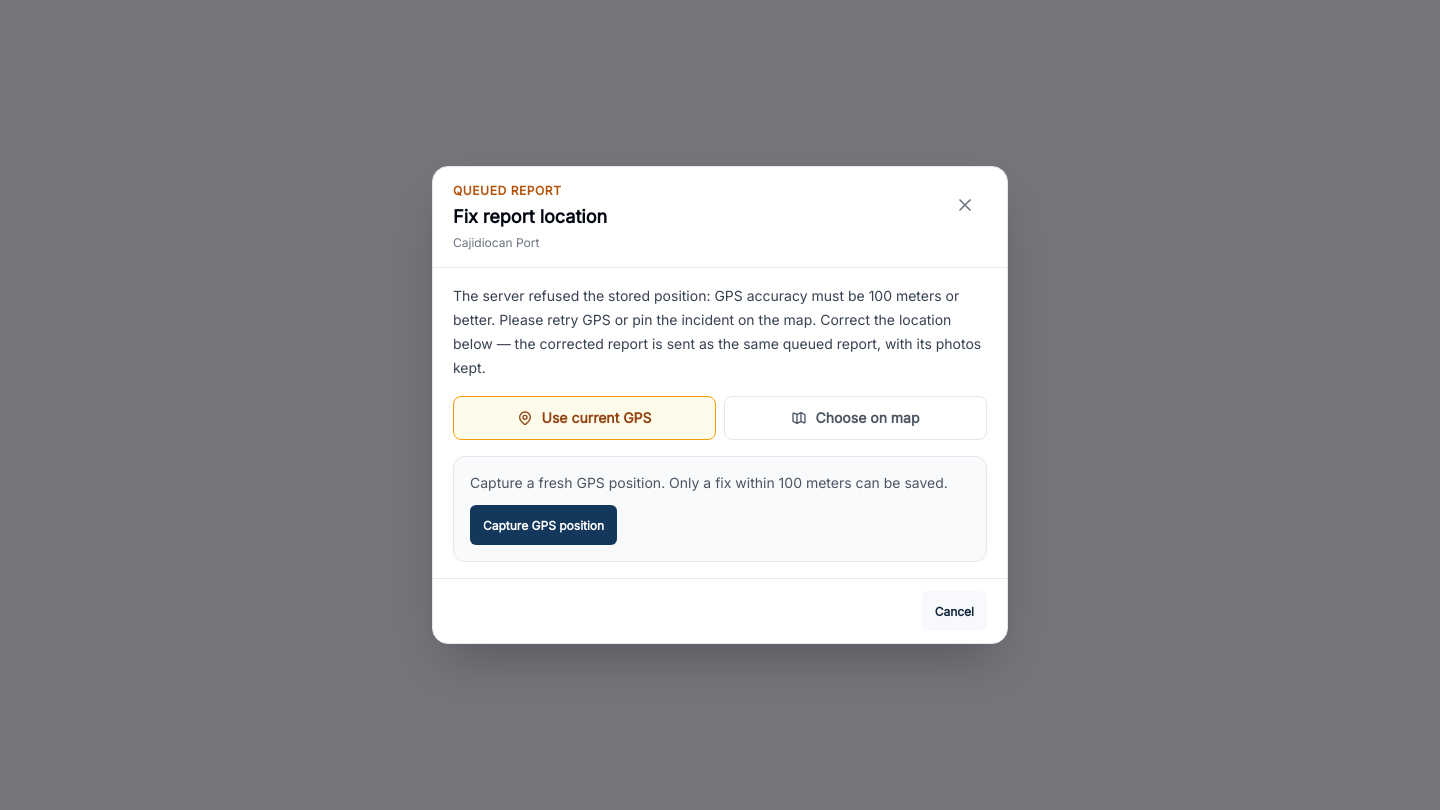
QueuedReportLocationFix › refuses an inaccurate GPS fix and points at the map instead
Click the button "Capture GPS position" at (544, 525), box [470,505,617,545]
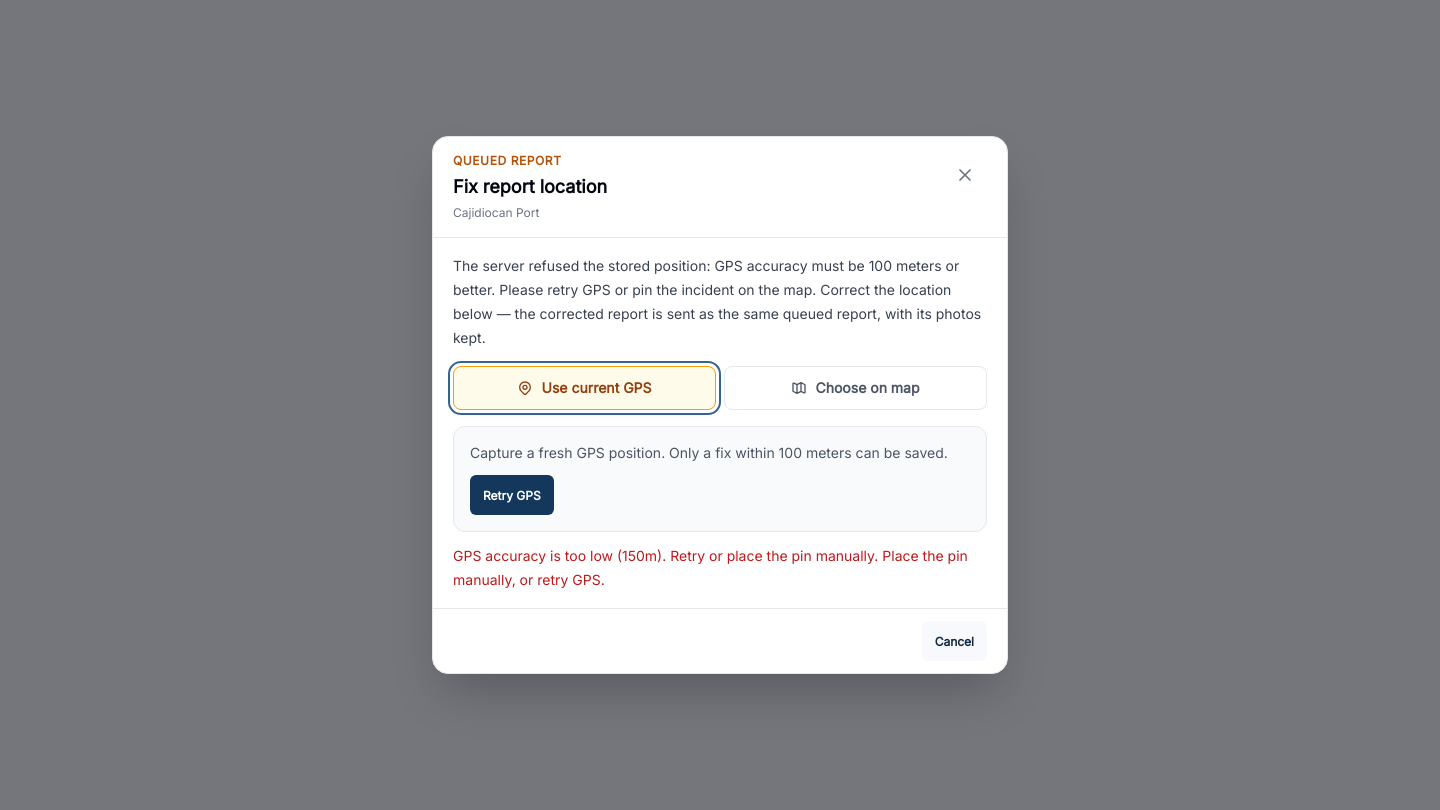
Now the message shows "too low (150m)", box [453,547,968,588]
